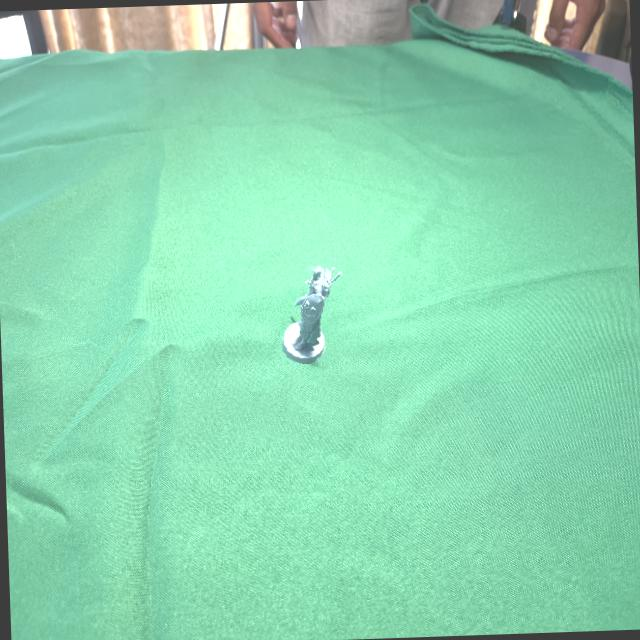isis_follower: (277, 264, 343, 366)
